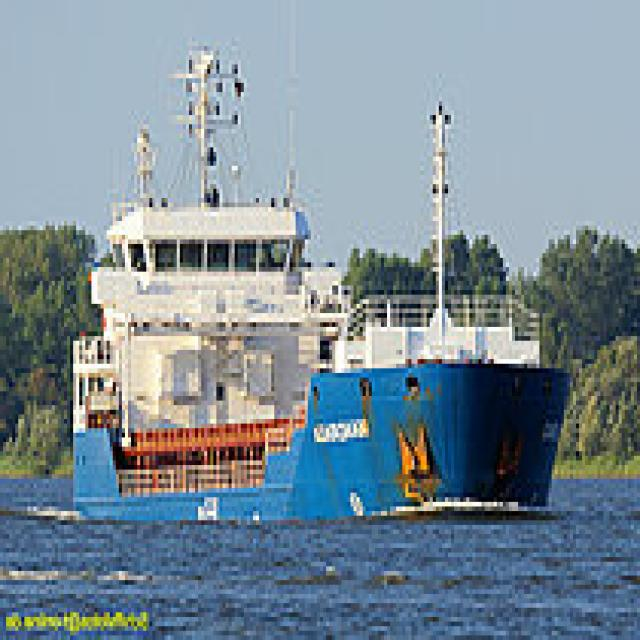Cargo: (73, 32, 576, 520)
